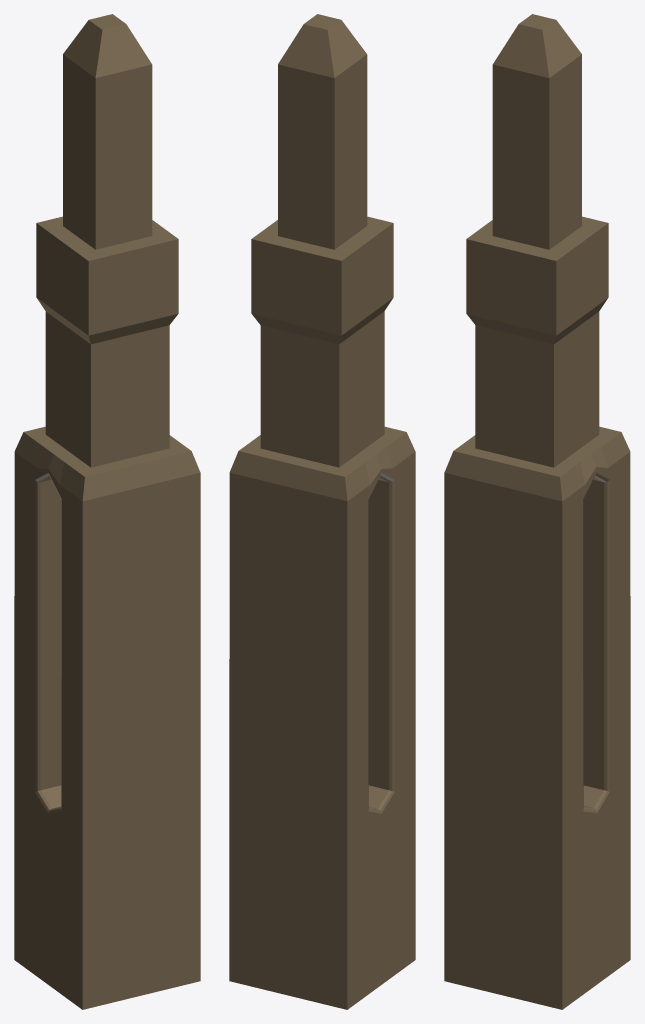
The picture shows the model from 3 angles, left to right: view 1: azimuth 30°, elevation 25°; view 2: azimuth 150°, elevation 25°; view 3: azimuth 330°, elevation 25°; orthographic projection.
Parts seen in each view (by area): view 1: BG3; view 2: BG3; view 3: BG3.
Boxes of the visible parts, x1,y1,x2,y2 form: BG3: [14, 14, 200, 1009]; BG3: [229, 14, 415, 1009]; BG3: [444, 14, 630, 1009].
Size of the model in its own units: 14.87 by 114 by 14.9.
